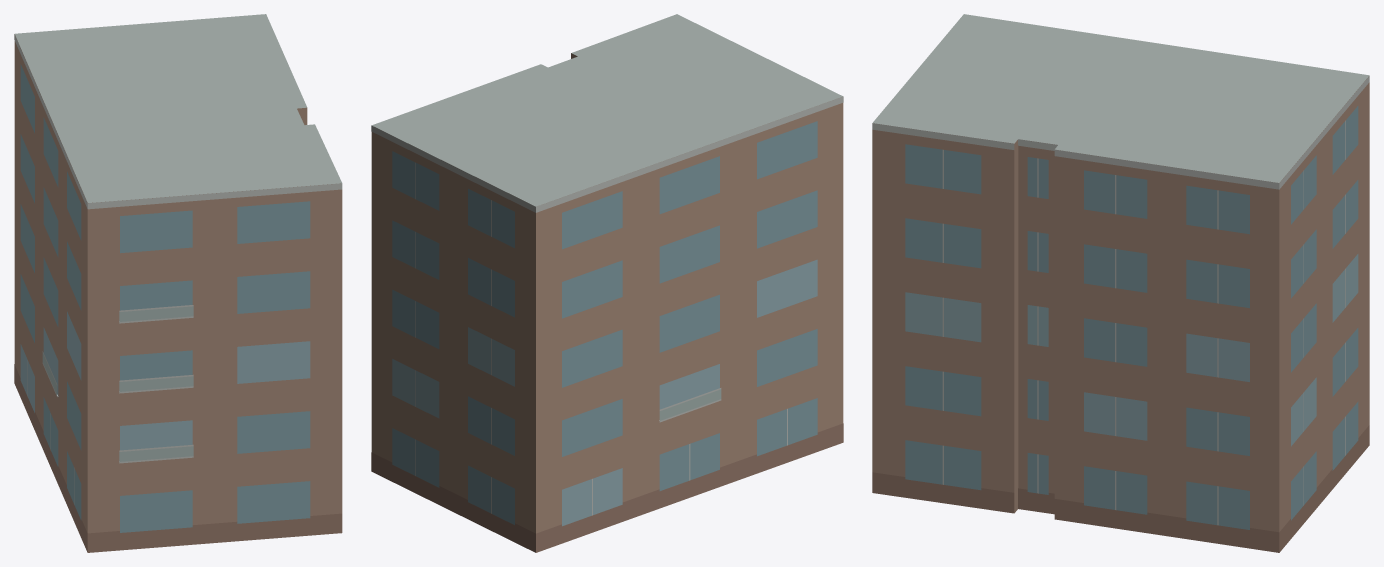
Rendered from survey-upis-32890149.glb.
3 views of the same model, side by side, from view 1: azimuth 30°, elevation 25°; view 2: azimuth 150°, elevation 25°; view 3: azimuth 270°, elevation 25° (orthographic). The views are drawn at different scales.
Visible parts, largest first — view 1: survey-upis-32890149.tmp; view 2: survey-upis-32890149.tmp; view 3: survey-upis-32890149.tmp.
Boxes of the visible parts, x1,y1,x2,y2 form: survey-upis-32890149.tmp: (14,14,342,552); survey-upis-32890149.tmp: (371,14,843,552); survey-upis-32890149.tmp: (872,14,1369,552).
Size of the model in its own units: 13.44 by 13.7 by 16.71.
